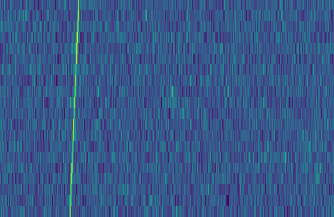signal: (63, 0, 81, 217)
